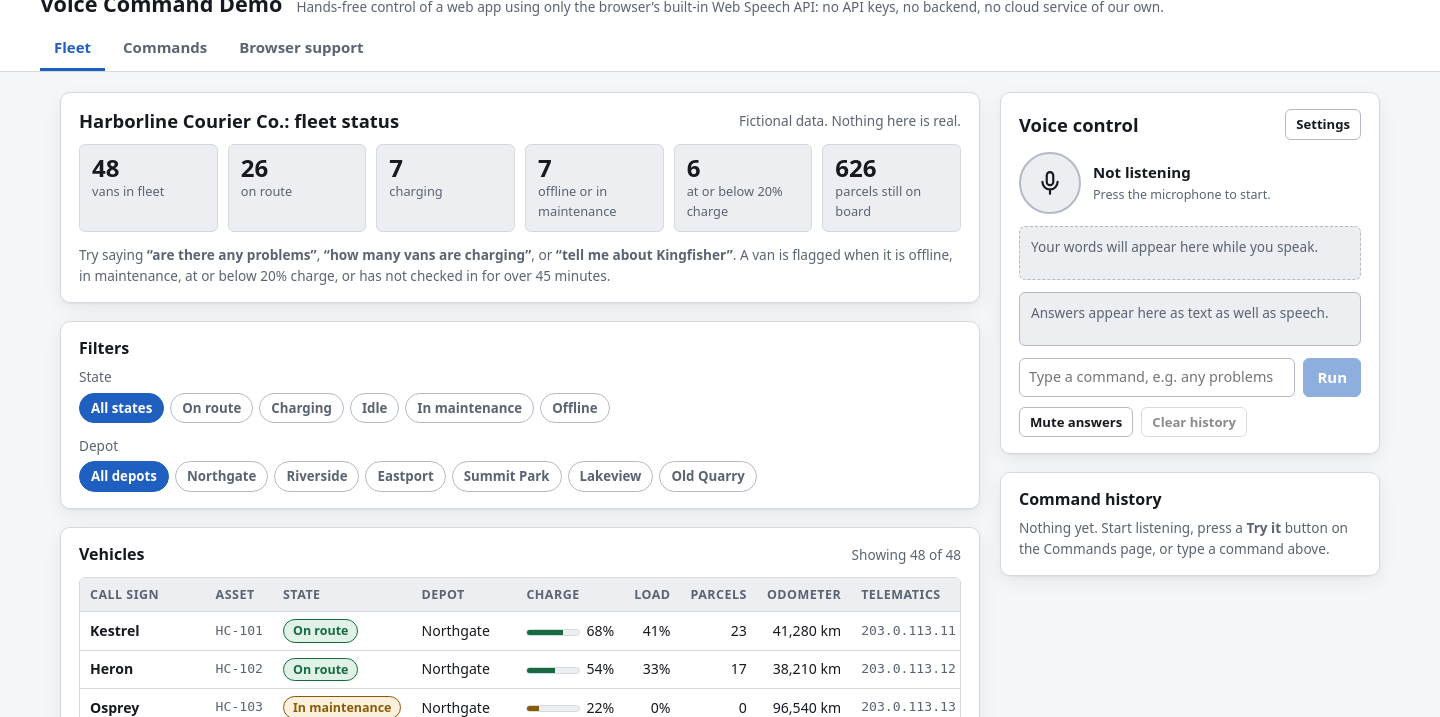
click-to-try: the no-microphone path › focuses a single vehicle row when asked about one van
This screenshot has width=1440, height=717.
Click the button "Commands": (165, 49) [109,27,221,71]
(page scrolled)
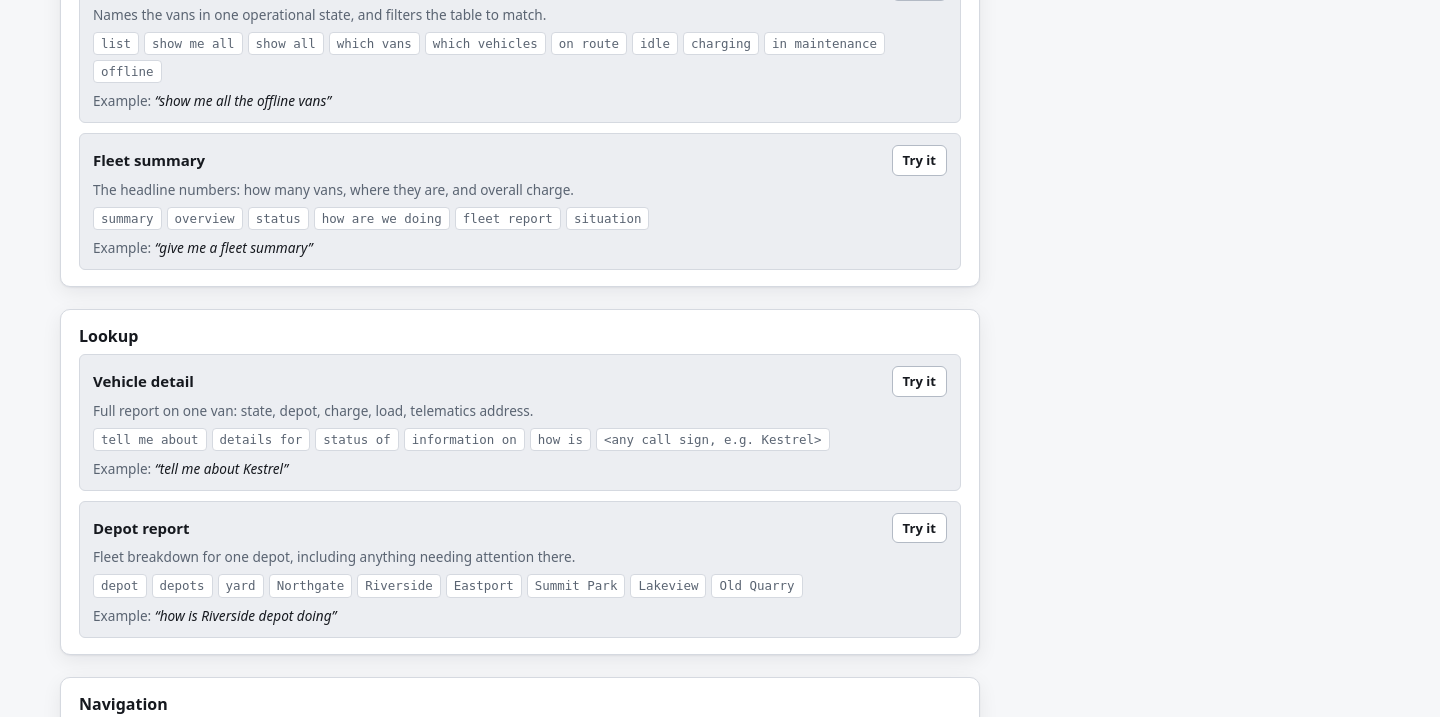
Click the button "Try it" in the row of "Vehicle detail": (919, 381) [892,366,947,396]
(page scrolled)
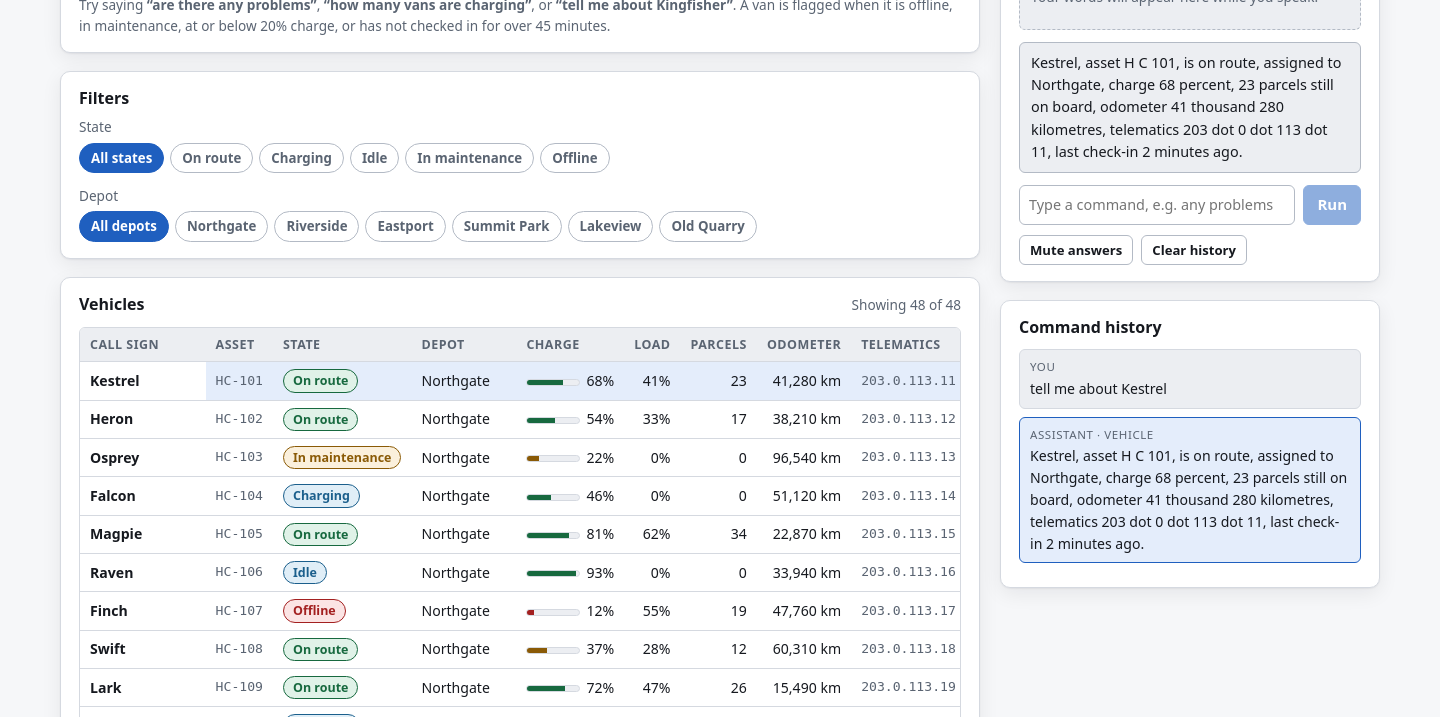
Check: the row with class "is-focused" shows "Kestrel", box [90,371,140,390]
Check: the text "203 dot 0 dot 113 dot 11" is shown, box [1031,53,1341,161]
